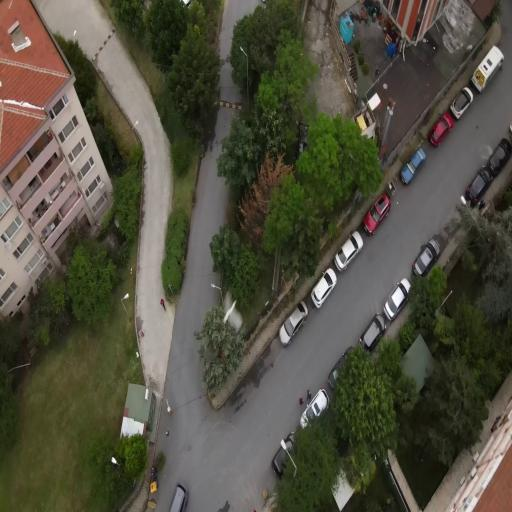bus: (471, 46, 503, 92)
car: (279, 302, 308, 346), (300, 389, 329, 428), (328, 347, 353, 391), (384, 279, 410, 321), (364, 193, 390, 235), (335, 232, 363, 271), (466, 166, 492, 206), (312, 268, 337, 308), (413, 238, 440, 275), (359, 314, 385, 351), (487, 138, 511, 176), (401, 148, 426, 184), (430, 113, 453, 146), (451, 88, 473, 119), (271, 447, 289, 478), (170, 484, 188, 511)
